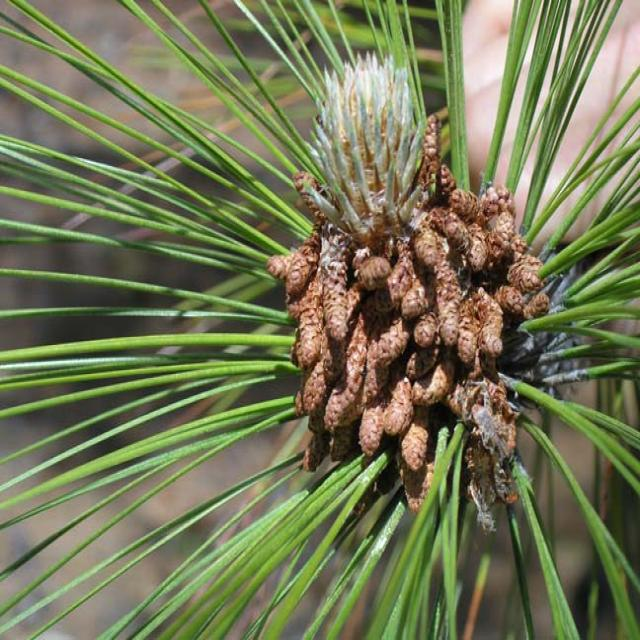Pine: (52, 71, 640, 639), (204, 51, 556, 424)
